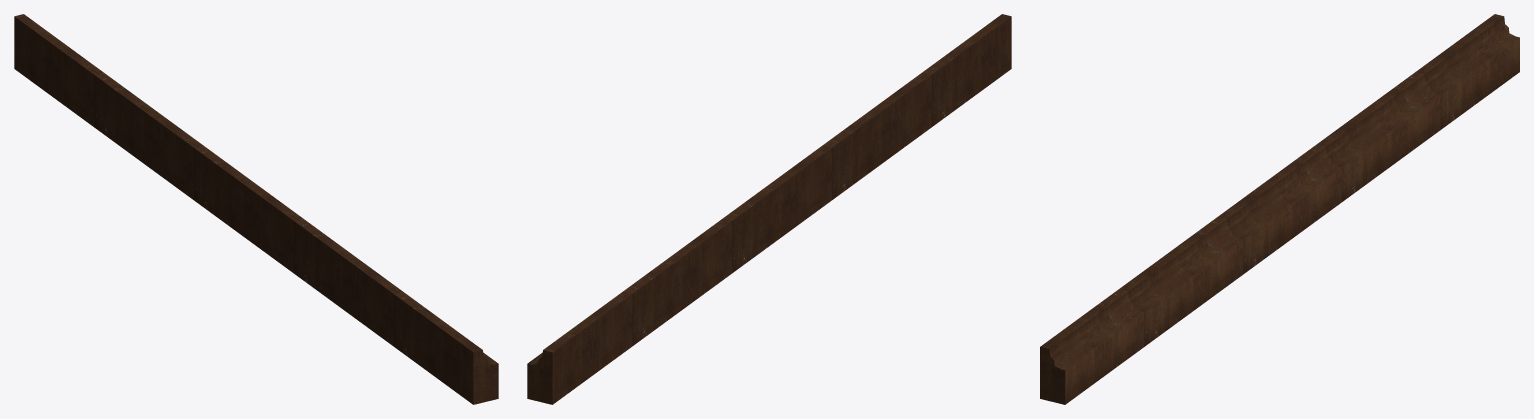
The model's file is souptrim001.obj.
3 views of the same model, side by side, from view 1: azimuth 30°, elevation 25°; view 2: azimuth 150°, elevation 25°; view 3: azimuth 330°, elevation 25° (orthographic).
Visible parts, largest first — view 1: souptrim001_high_1; view 2: souptrim001_high_1; view 3: souptrim001_high_1.
Boxes of the visible parts, left/top/right/bottom form: souptrim001_high_1: left=14, top=14, right=498, bottom=404; souptrim001_high_1: left=527, top=14, right=1011, bottom=404; souptrim001_high_1: left=1040, top=14, right=1519, bottom=404.
Size of the model in its own units: 0.0861 by 0.1712 by 2.71.
